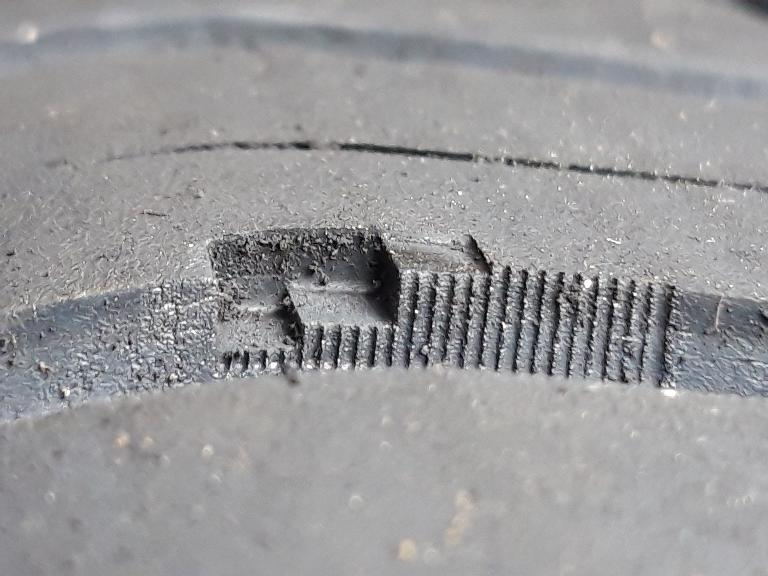temoin:50: (194, 217, 505, 390)
